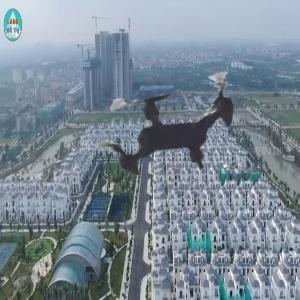drone: (57, 21, 283, 247)
